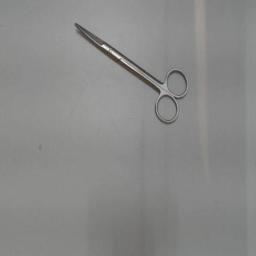Curved Mayo Scissors: (72, 18, 194, 128)
